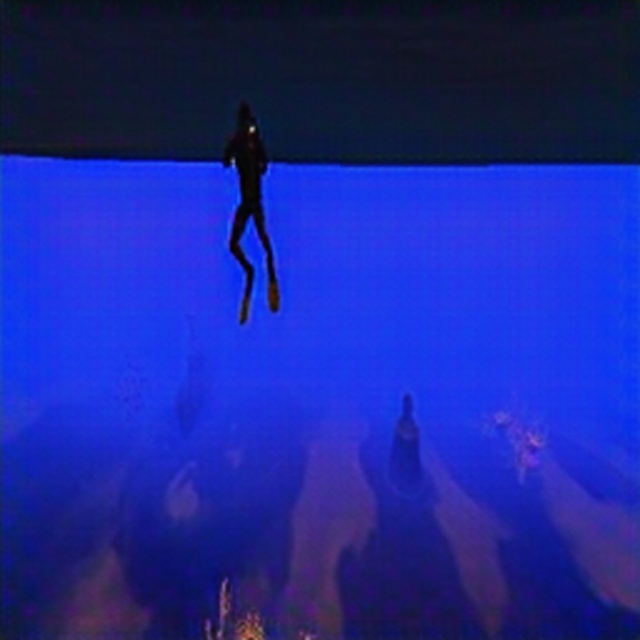diver: (221, 98, 279, 324)
